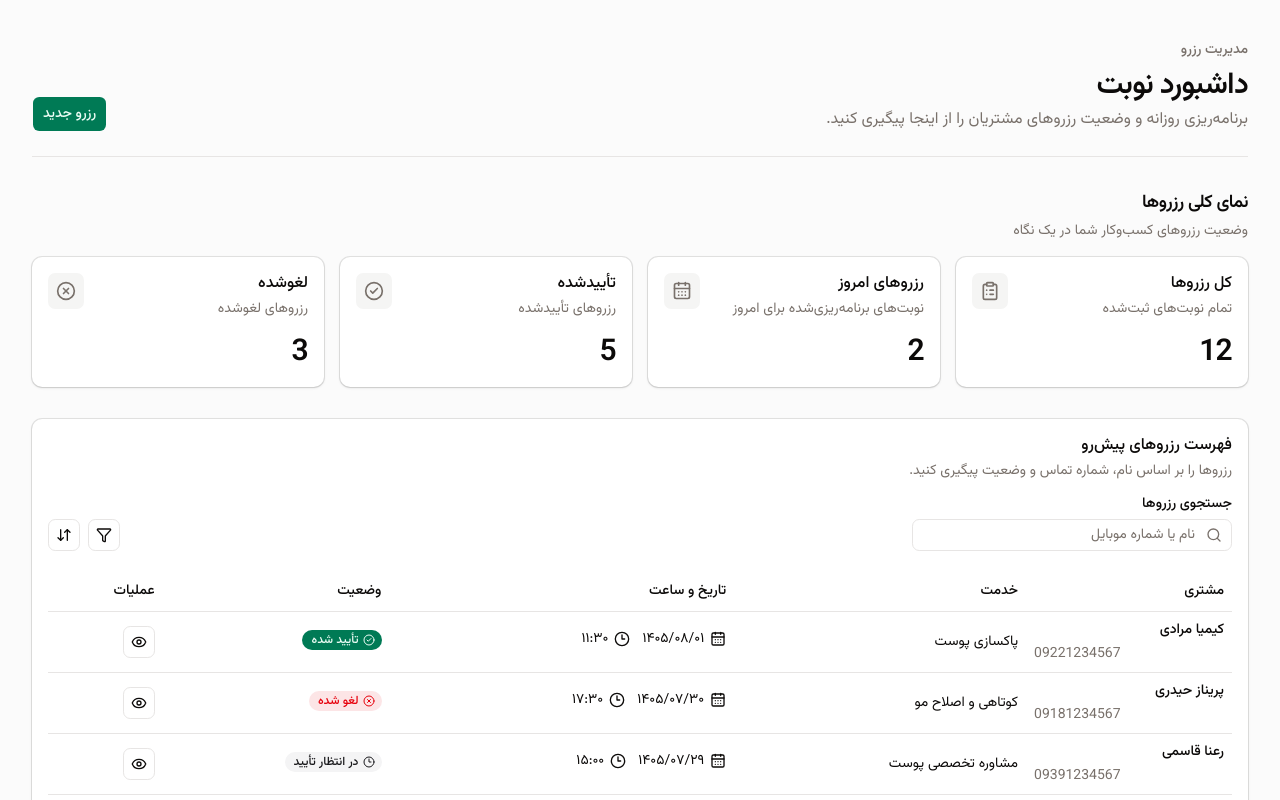
Test case: Nobat dashboard homepage › opens the new reservation form
Click the button "رزرو جدید" at (70, 114), box [32,96,107,132]
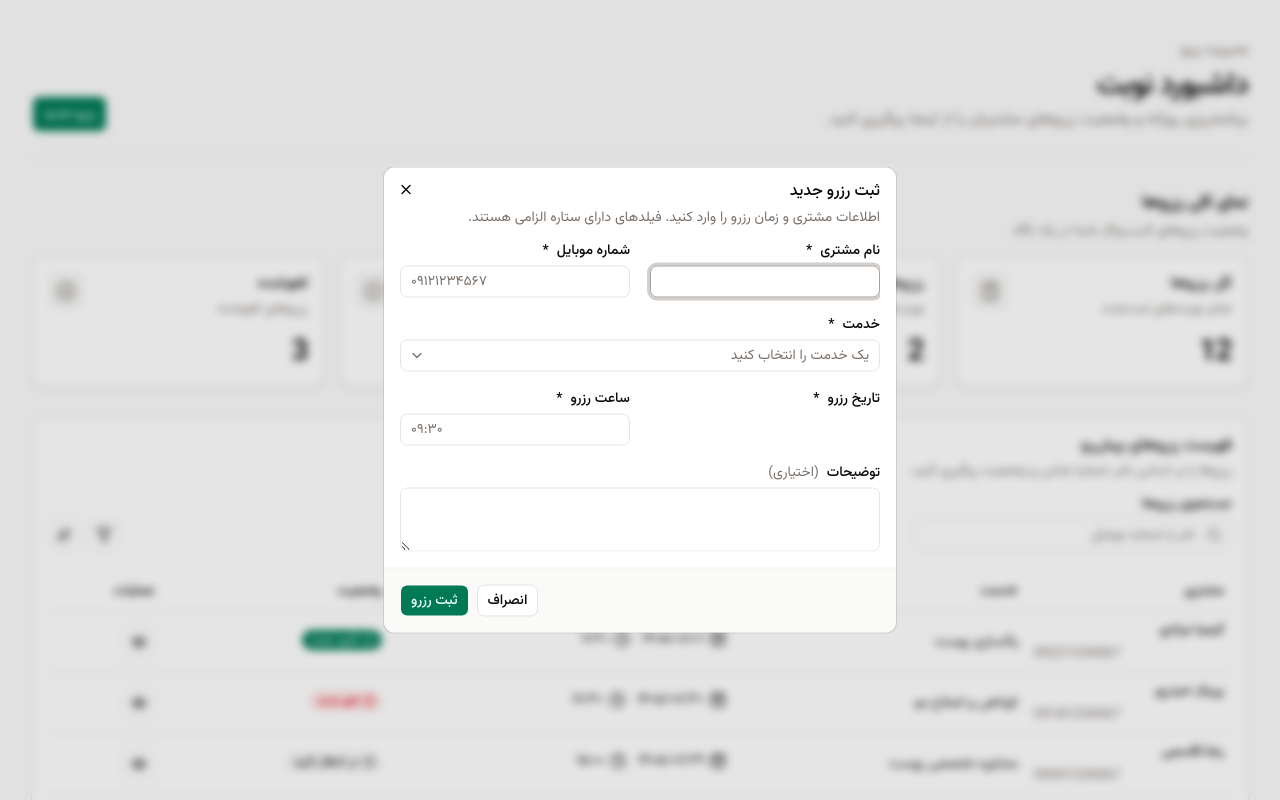
Check: the dialog "ثبت رزرو جدید" is shown, box [384,168,896,632]
